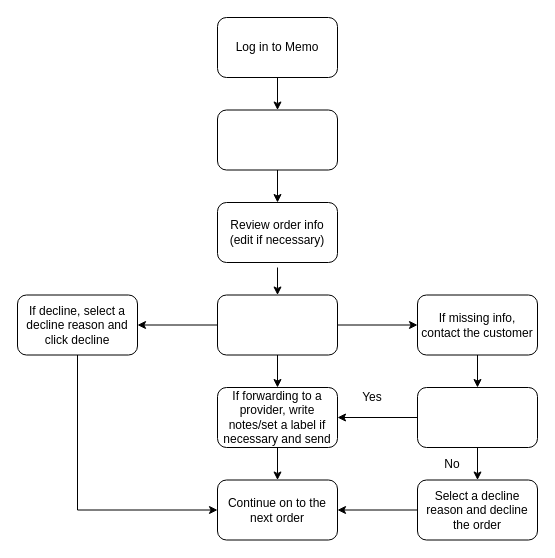
Some shapes in this 555 by 558 pixel diagram are drawn without their labels. Here are the shapes that lost their labels. From the top down, the centre of each, then its label:
At (277,139): "Select an order to review by clicking an order id".
At (277,324): "Decide whether to decline, acquire more info, or forward to a Provider".
At (477,417): "Is info obtained?".
